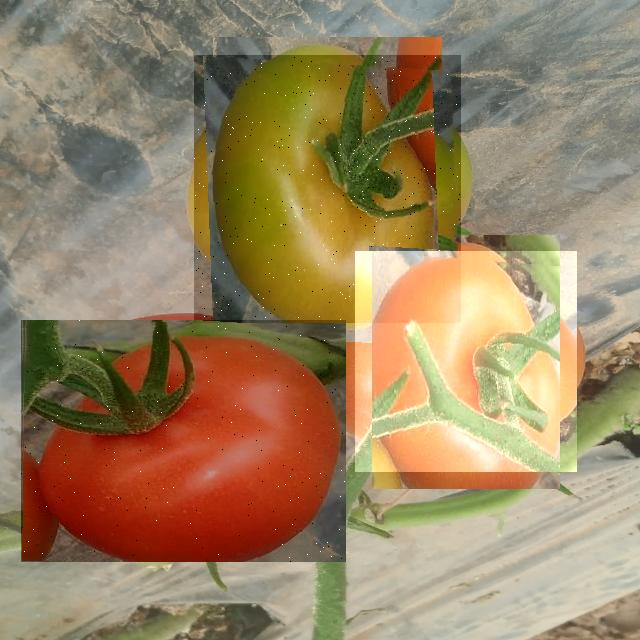Ripe Tomato: (21, 320, 346, 562), (355, 251, 577, 472)
Unripe Tomato: (194, 55, 461, 323)
